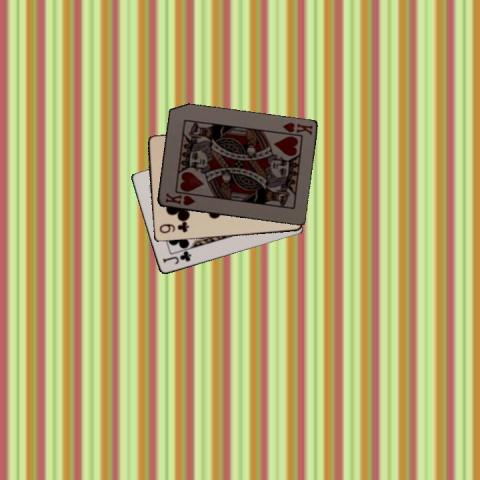9c: (157, 221, 190, 235)
Jc: (160, 249, 192, 266)
Kh: (280, 119, 314, 137), (162, 190, 197, 207)
